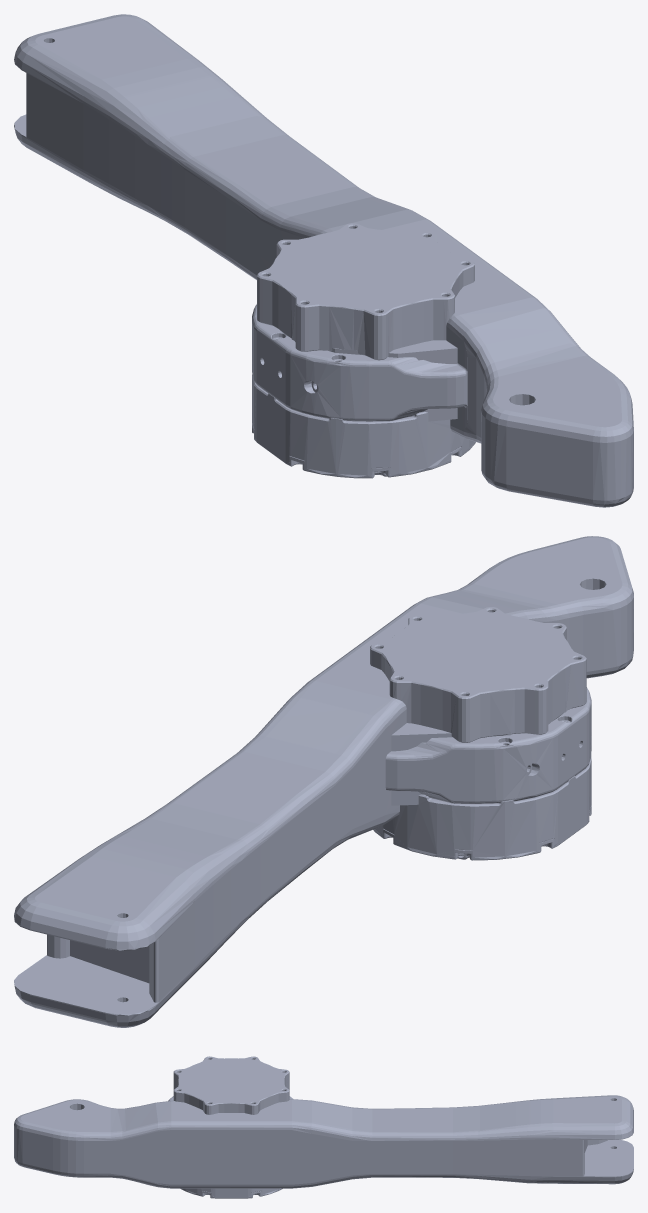
Rendered from left_knee_link.obj.
3 renders of one model, top to bottom at view 1: azimuth 30°, elevation 25°; view 2: azimuth 150°, elevation 25°; view 3: azimuth 270°, elevation 25°, orthographic. The views are drawn at different scales.
Parts seen in each view (by area): view 1: left_knee_link-mesh; view 2: left_knee_link-mesh; view 3: left_knee_link-mesh.
Part boxes in pixels (left/top/right/bottom): left_knee_link-mesh: left=14, top=14, right=633, bottom=507; left_knee_link-mesh: left=14, top=536, right=633, bottom=1027; left_knee_link-mesh: left=14, top=1056, right=633, bottom=1198.
Bounding box in the file's own units: 0.1072 × 0.0835 × 0.4621.
